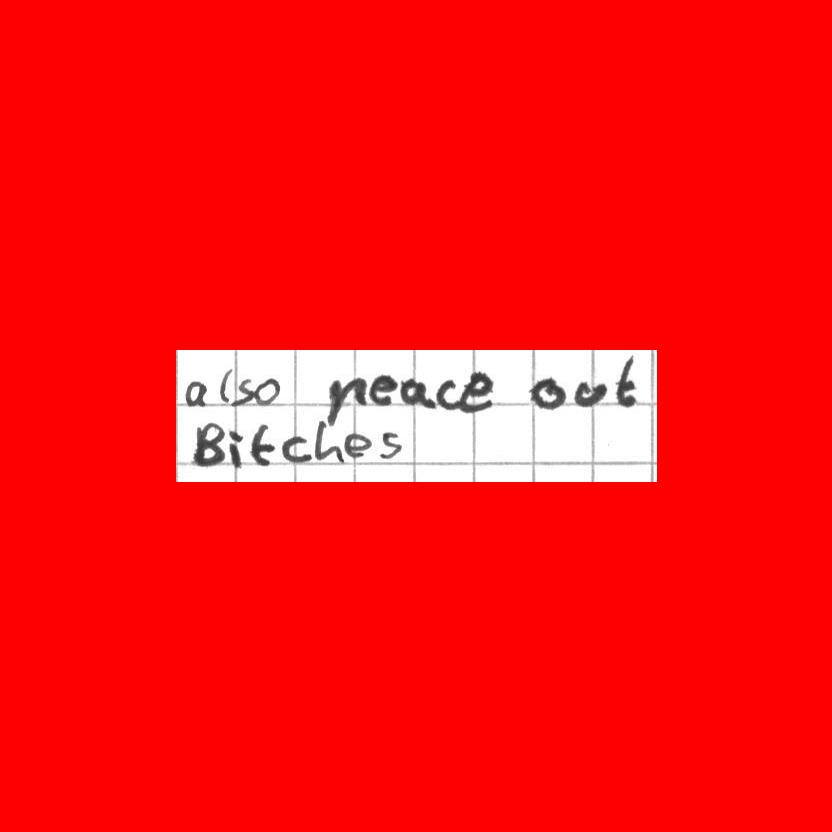Char: (327, 376, 369, 424), (457, 371, 494, 417), (191, 417, 225, 467), (614, 355, 640, 408), (528, 374, 565, 411), (313, 418, 343, 463), (399, 376, 434, 410), (250, 423, 274, 466), (368, 372, 395, 408), (572, 378, 605, 407), (281, 435, 311, 465), (377, 429, 404, 460), (344, 431, 372, 459), (252, 376, 279, 405), (230, 376, 254, 408), (435, 375, 456, 411), (226, 430, 244, 470), (184, 379, 209, 407), (218, 370, 234, 402)
